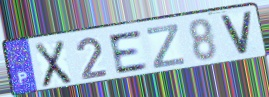2: (75, 36, 109, 82)
8: (187, 18, 219, 64)
E: (106, 28, 150, 76)
V: (217, 11, 255, 57)
X: (33, 38, 74, 90)
Z: (145, 22, 187, 70)
